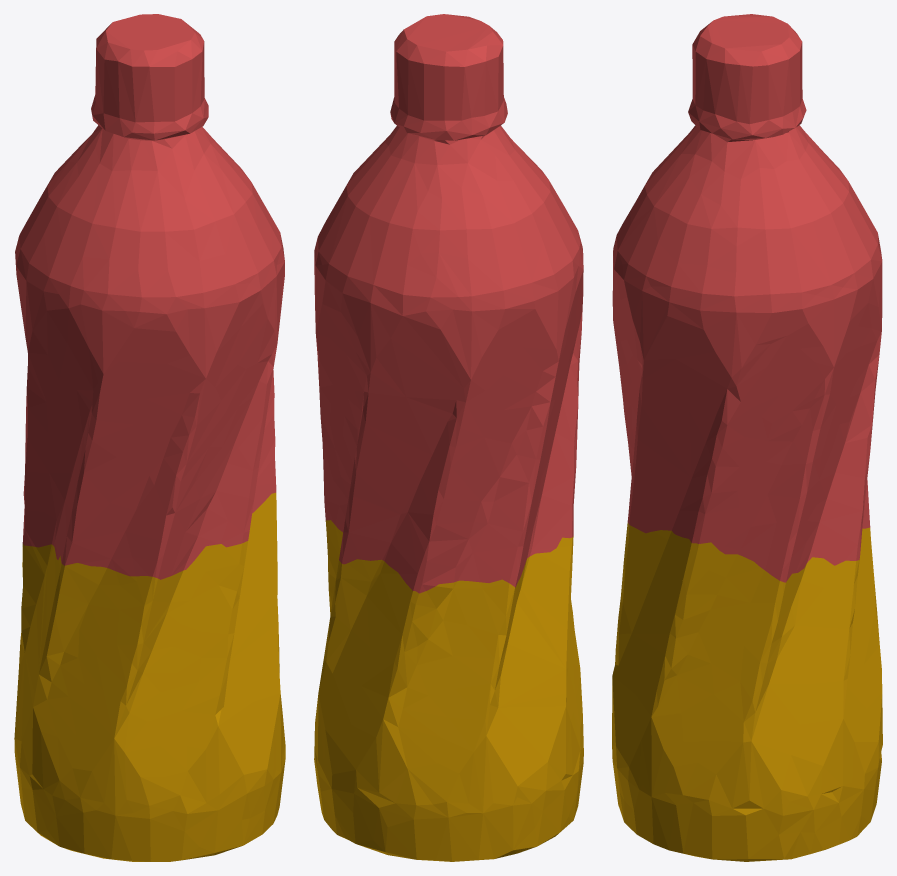
Rendered from fractured_73_2pcs.glb.
3 views of the same model, side by side, from view 1: azimuth 30°, elevation 25°; view 2: azimuth 150°, elevation 25°; view 3: azimuth 270°, elevation 25° (orthographic).
Parts seen in each view (by area): view 1: piece_1.obj, piece_0.obj; view 2: piece_1.obj, piece_0.obj; view 3: piece_1.obj, piece_0.obj.
Boxes of the visible parts, <box> form: piece_1.obj: <box>15,14,284,579</box>; piece_0.obj: <box>14,492,285,861</box>; piece_1.obj: <box>314,14,583,593</box>; piece_0.obj: <box>314,520,583,861</box>; piece_1.obj: <box>612,14,882,582</box>; piece_0.obj: <box>612,522,882,861</box>.
Bounding box in the file's own units: 0.3156 × 1 × 0.3155.
